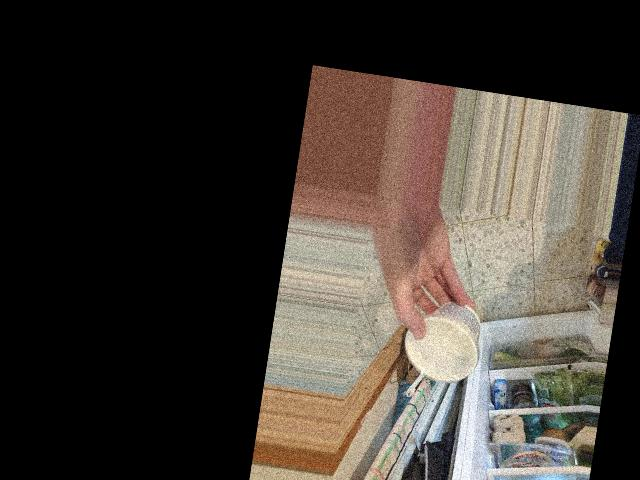cotage: (404, 298, 482, 393)
